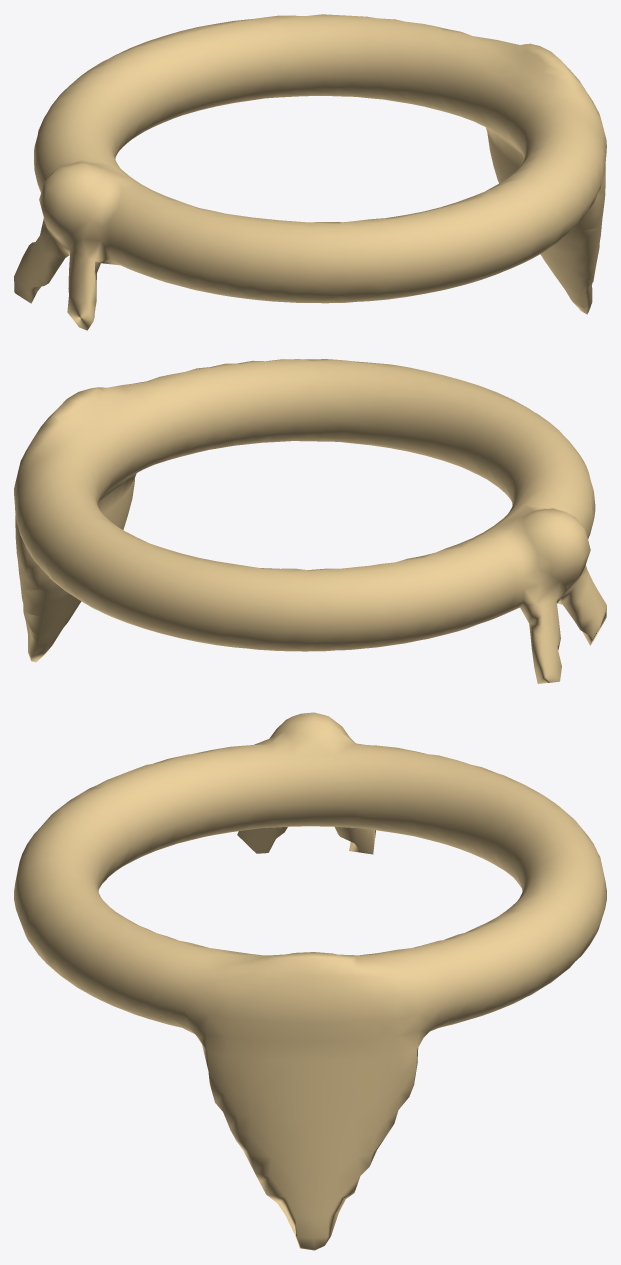
The model's file is acc_bandana.glb.
3 views of the same model, one above another, from view 1: azimuth 30°, elevation 25°; view 2: azimuth 150°, elevation 25°; view 3: azimuth 270°, elevation 25° (orthographic). The views are drawn at different scales.
Parts seen in each view (by area): view 1: body; view 2: body; view 3: body.
Boxes of the visible parts, <box> form: body: <box>14,14,606,330</box>; body: <box>14,359,606,683</box>; body: <box>14,712,606,1250</box>.
Size of the model in its own units: 0.7695 by 0.3625 by 0.6994.
